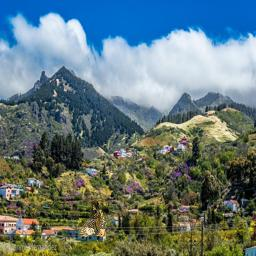Woodpecker: (79, 201, 106, 237)
